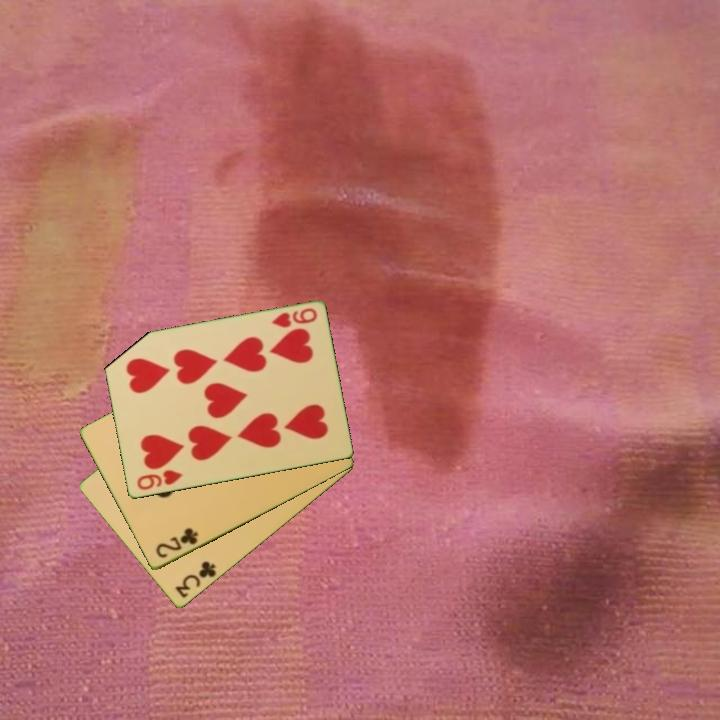2c: (152, 524, 201, 561)
3c: (172, 558, 219, 601)
9h: (133, 466, 185, 493), (268, 305, 320, 331)
